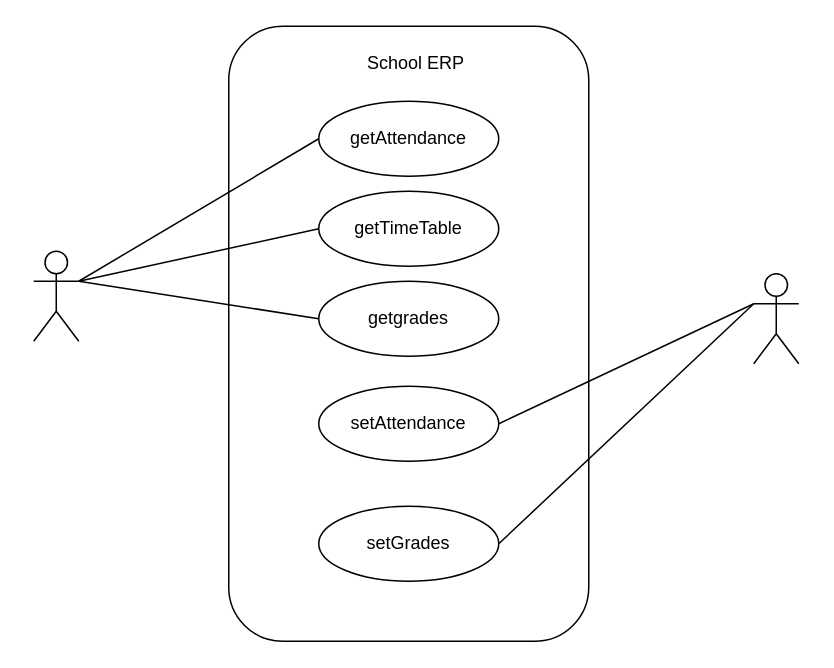
This 834x668 diagram has some shape labels left out. The shapes that lost their labels are listed below. From the top down, each one's centre as x and y in pixels, then its label:
(55,295): Student
(775,318): Teacher
